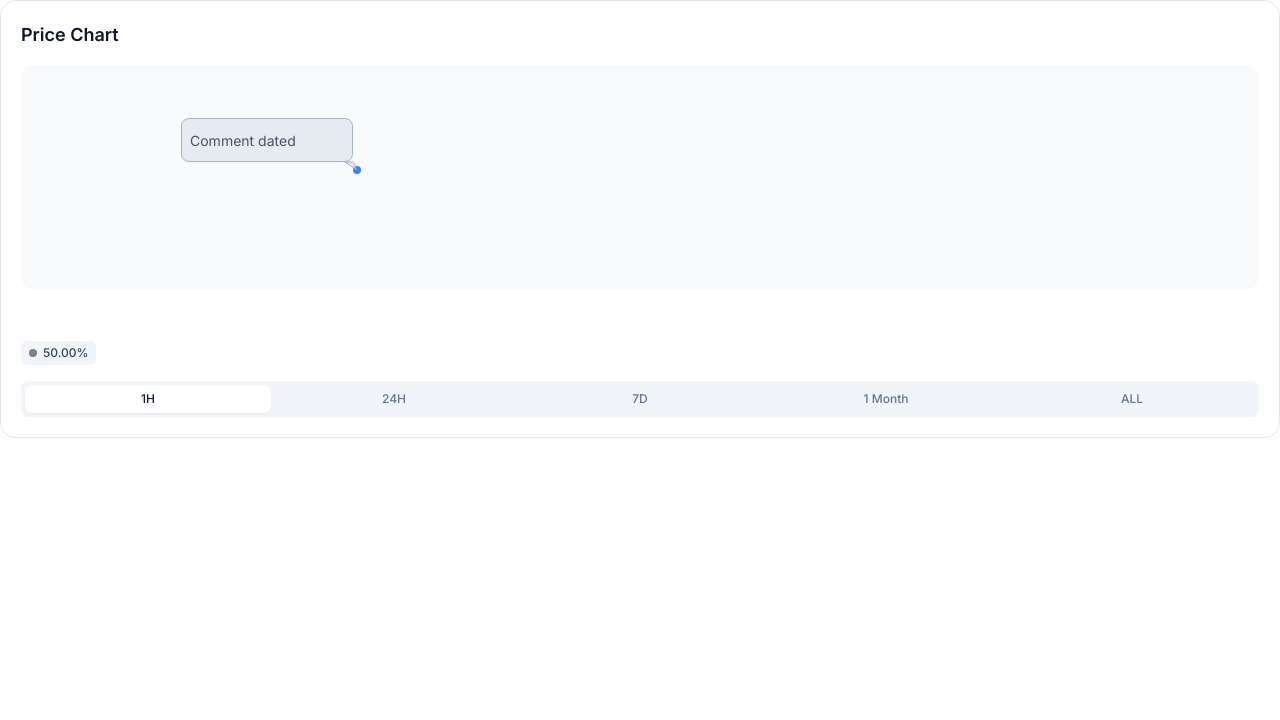
Scenario: PriceChart › 1h shows the confirmed date with dateOnly=false
The image size is (1280, 720).
Click the button with test id "price-chart-comment-marker".
click(268, 141)  # box [182, 119, 354, 163]
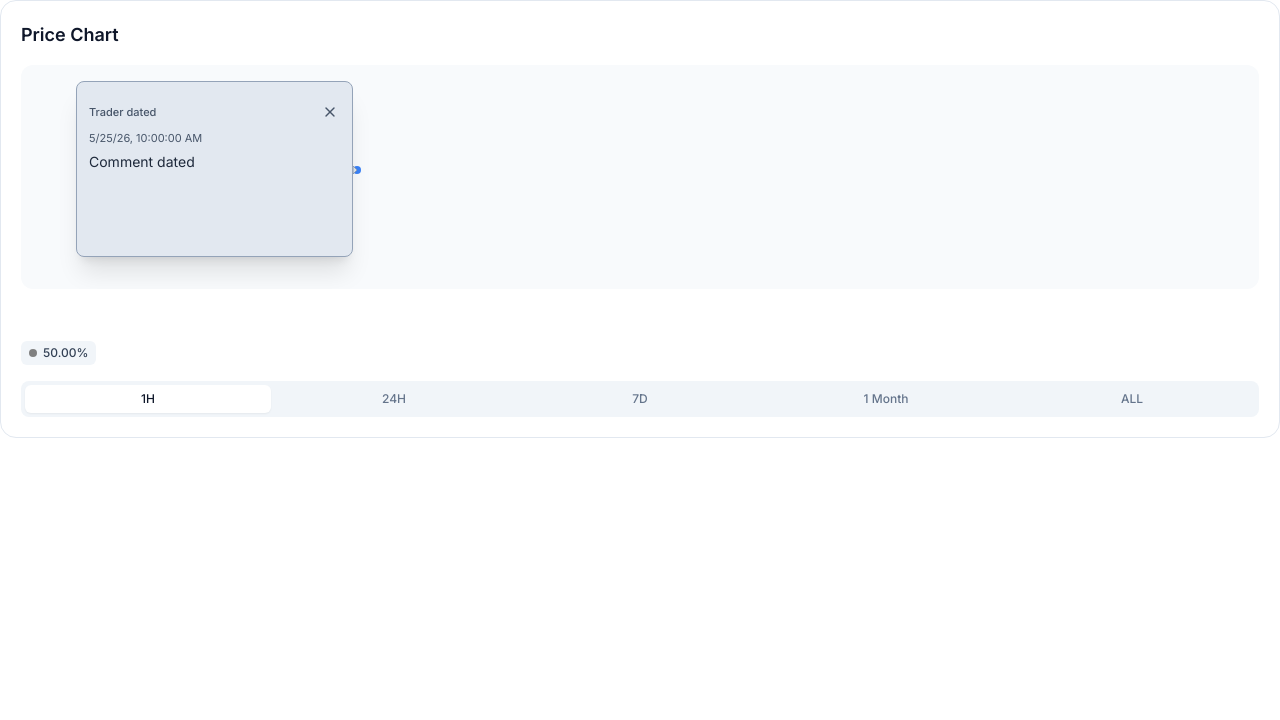
Result: the text "5/25/26, 10:00:00 AM" is shown at [89, 131, 202, 145]
Click the button named "Close".
click(330, 112)  # box [312, 94, 348, 130]
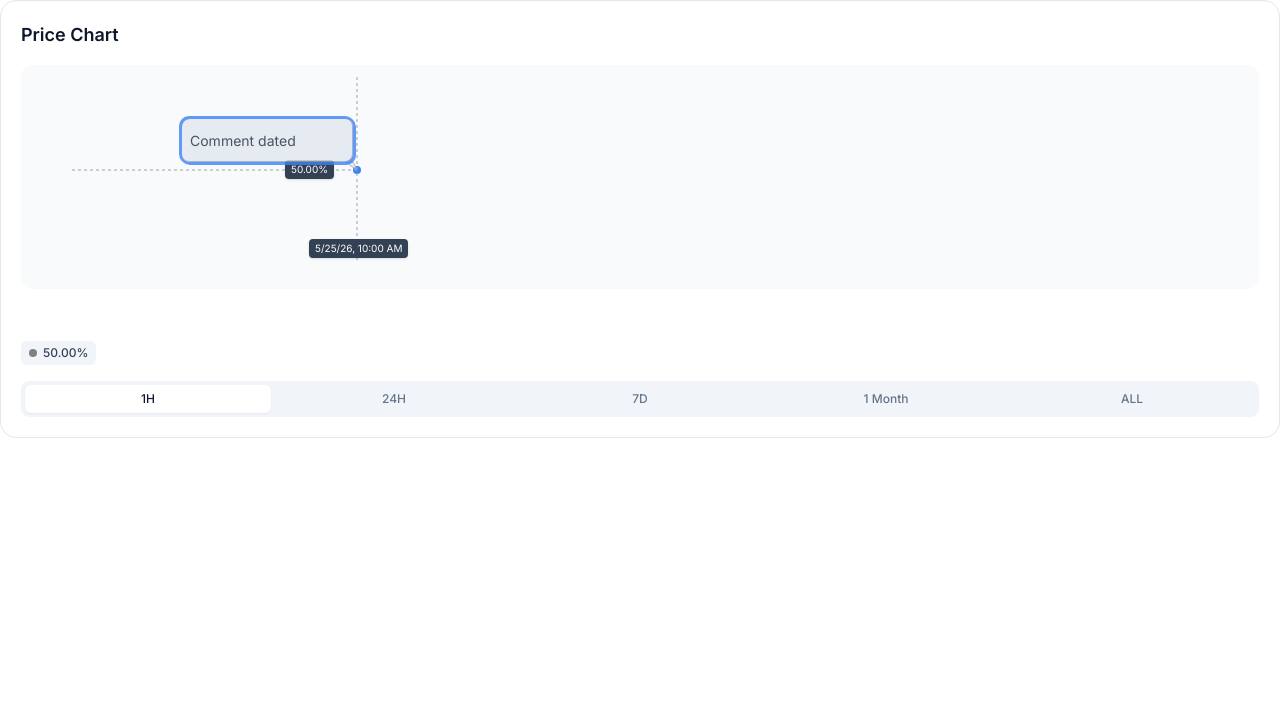
Result: the text with test id "price-chart-x-axis-cursor-label" reads "5/25/26, 10:00 AM" at [315, 242, 402, 254]
